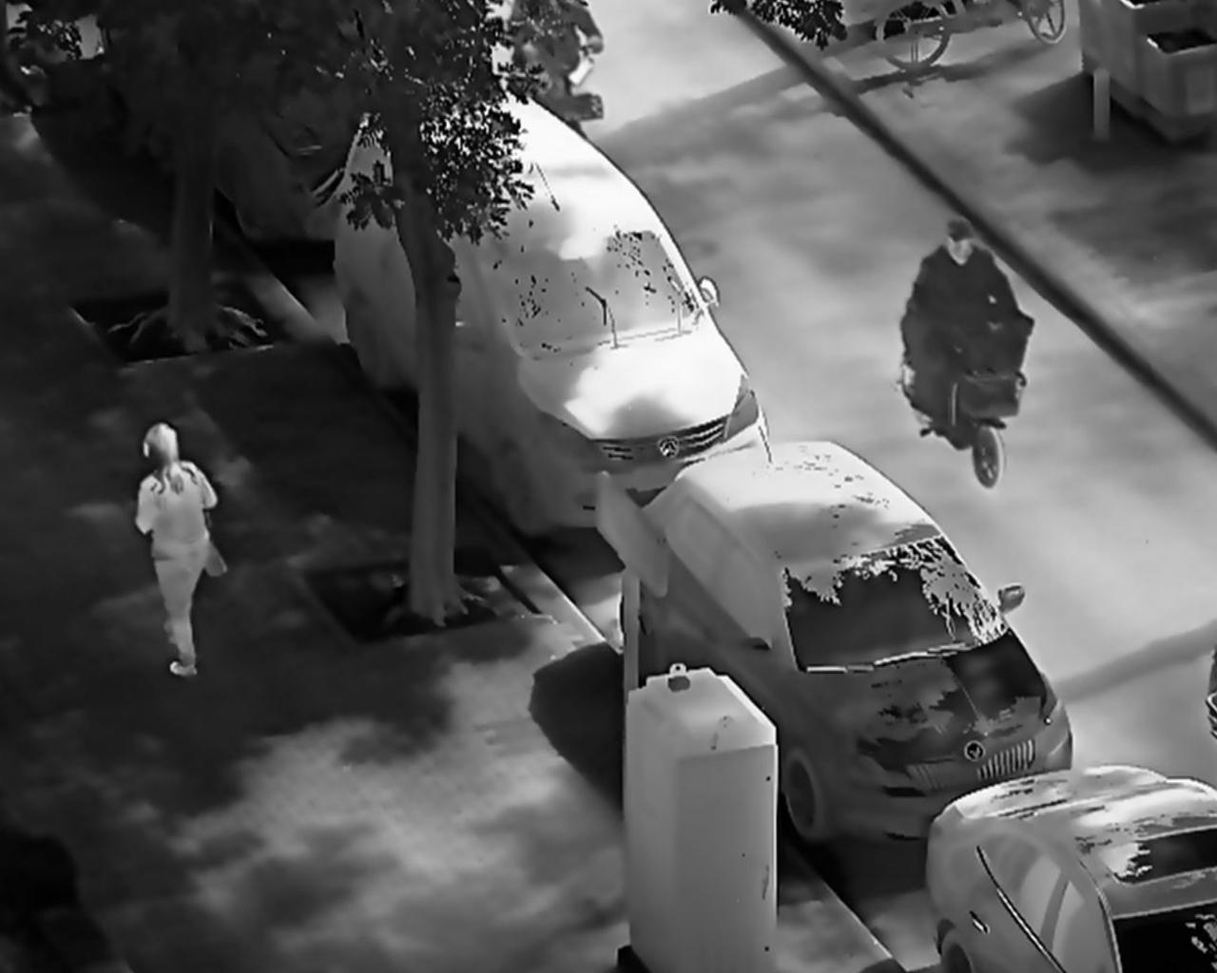person: (903, 217, 1028, 443), (130, 419, 220, 680)
